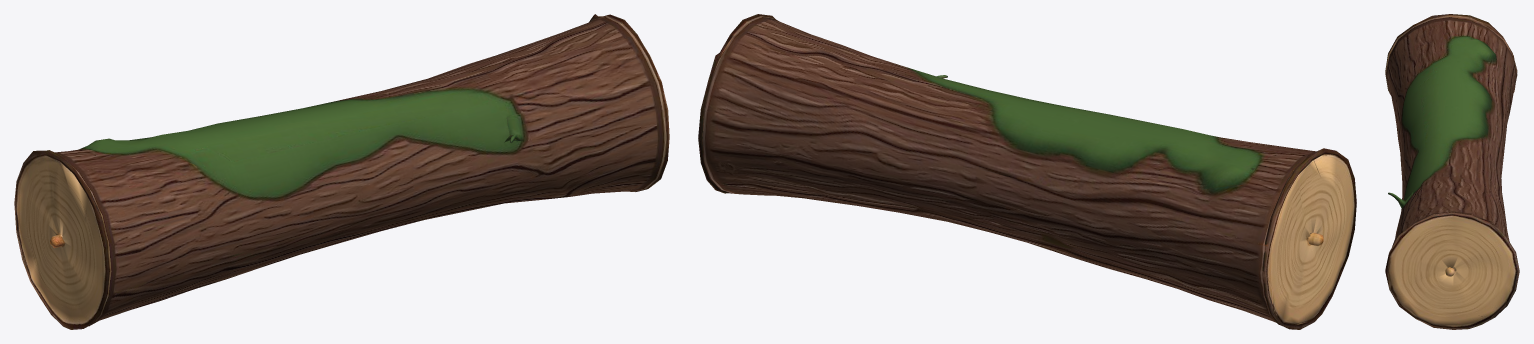
The model's file is Log.glb.
The picture shows the model from 3 angles, left to right: view 1: azimuth 30°, elevation 25°; view 2: azimuth 150°, elevation 25°; view 3: azimuth 270°, elevation 25°; orthographic projection. The views are drawn at different scales.
Size of the model in its own units: 2.5 by 0.686 by 0.6982.
1 material, 1 textured.
